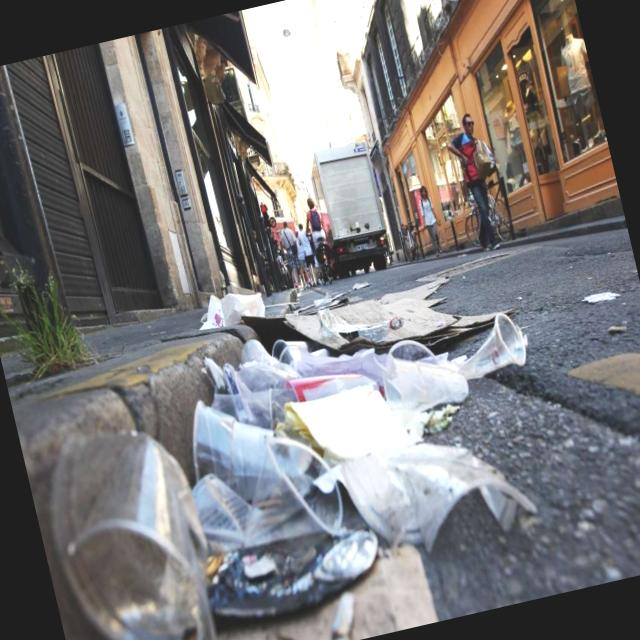garbage: (12, 243, 582, 640)
